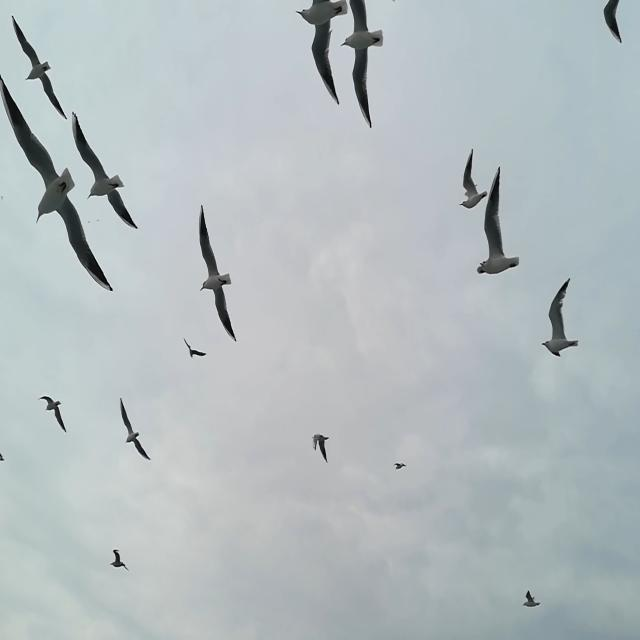bird: (0, 75, 114, 292), (71, 110, 140, 229), (11, 14, 66, 122), (294, 0, 348, 107), (340, 0, 384, 128), (199, 204, 236, 341), (476, 166, 520, 276), (541, 279, 578, 359), (119, 398, 151, 462), (458, 148, 488, 210), (36, 395, 67, 432), (602, 0, 623, 44), (310, 432, 330, 464), (183, 338, 207, 360), (109, 548, 130, 572), (522, 588, 541, 609), (393, 462, 407, 472), (0, 450, 5, 464), (1, 196, 3, 201), (97, 218, 99, 222), (88, 221, 90, 224)
